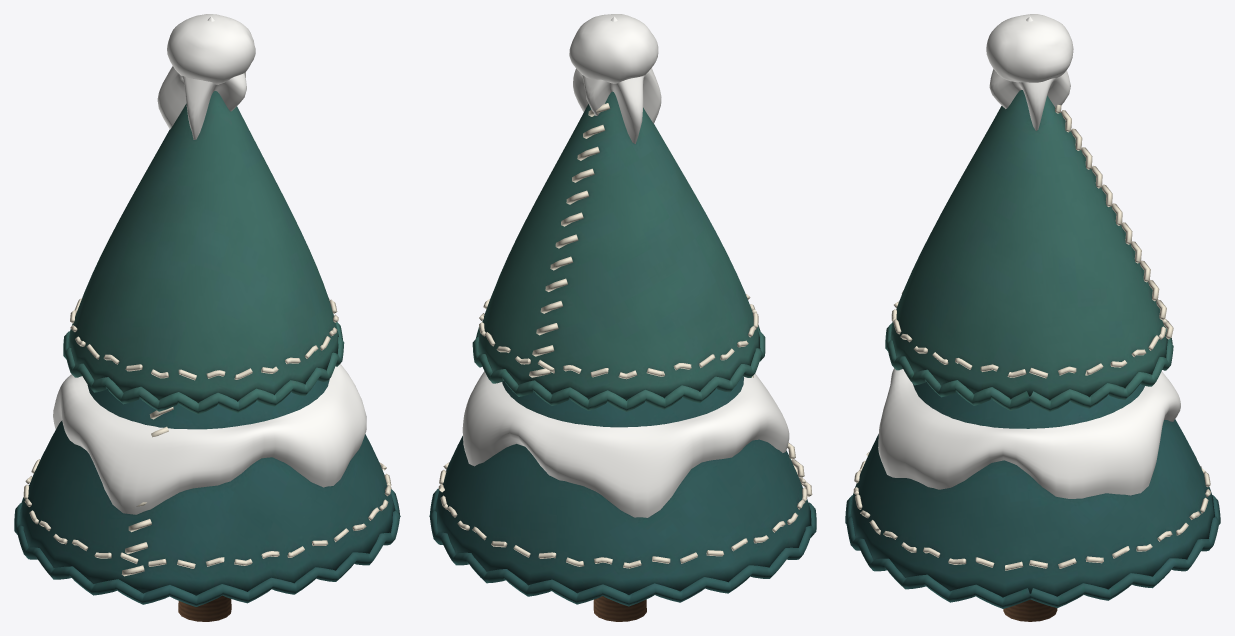
Rendered from tree_zigzag.glb.
3 renders of one model, left to right at view 1: azimuth 30°, elevation 25°; view 2: azimuth 150°, elevation 25°; view 3: azimuth 270°, elevation 25°, orthographic.
Visible parts, largest first — view 1: tier1_zigzag, tier0_zigzag, collar_zigzag, puff_zigzag, stitches_zigzag, cap_zigzag, trunk_zigzag; view 2: tier1_zigzag, tier0_zigzag, collar_zigzag, stitches_zigzag, puff_zigzag, cap_zigzag, trunk_zigzag; view 3: tier1_zigzag, tier0_zigzag, collar_zigzag, stitches_zigzag, puff_zigzag, cap_zigzag, trunk_zigzag.
Boxes of the visible parts, x1,y1,x2,y2 form: tier1_zigzag: [63, 91, 344, 414]; tier0_zigzag: [14, 379, 400, 606]; collar_zigzag: [53, 364, 366, 514]; puff_zigzag: [167, 14, 255, 84]; stitches_zigzag: [23, 298, 391, 576]; cap_zigzag: [157, 16, 246, 139]; trunk_zigzag: [178, 595, 231, 621]; tier1_zigzag: [472, 91, 765, 412]; tier0_zigzag: [429, 376, 816, 606]; collar_zigzag: [462, 371, 789, 517]; stitches_zigzag: [438, 103, 812, 568]; puff_zigzag: [569, 14, 658, 83]; cap_zigzag: [573, 16, 661, 143]; trunk_zigzag: [593, 596, 646, 621]; tier1_zigzag: [885, 90, 1173, 411]; tier0_zigzag: [845, 381, 1220, 608]; collar_zigzag: [878, 368, 1180, 498]; stitches_zigzag: [853, 105, 1210, 570]; puff_zigzag: [986, 14, 1073, 82]; cap_zigzag: [989, 16, 1070, 130]; trunk_zigzag: [1003, 599, 1057, 621].
Size of the model in its own units: 3.93 by 6.56 by 3.74.
Materials: 7 (3 with a texture image).
